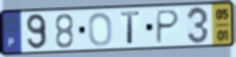3: (185, 5, 210, 46)
8: (54, 12, 74, 50)
9: (25, 12, 49, 52)
O: (87, 11, 113, 48)
P: (154, 8, 182, 45)
T: (120, 10, 142, 46)
